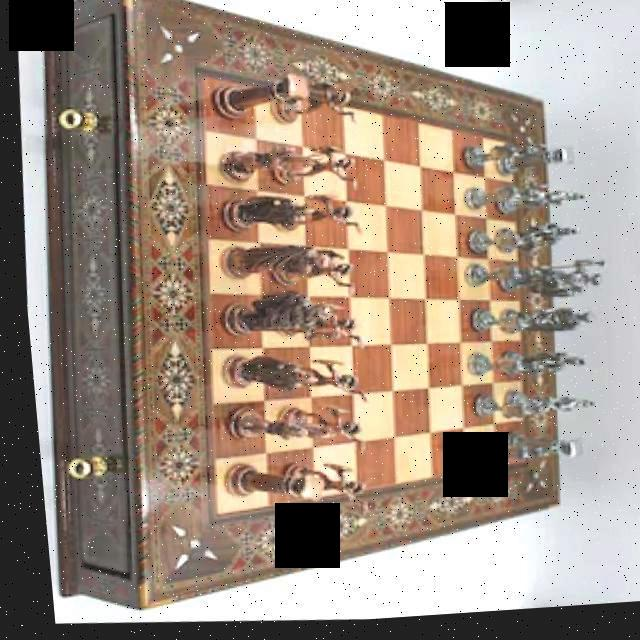chess-table-corners: (194, 483, 242, 539), (180, 56, 230, 108), (488, 443, 529, 494), (486, 130, 526, 176)
